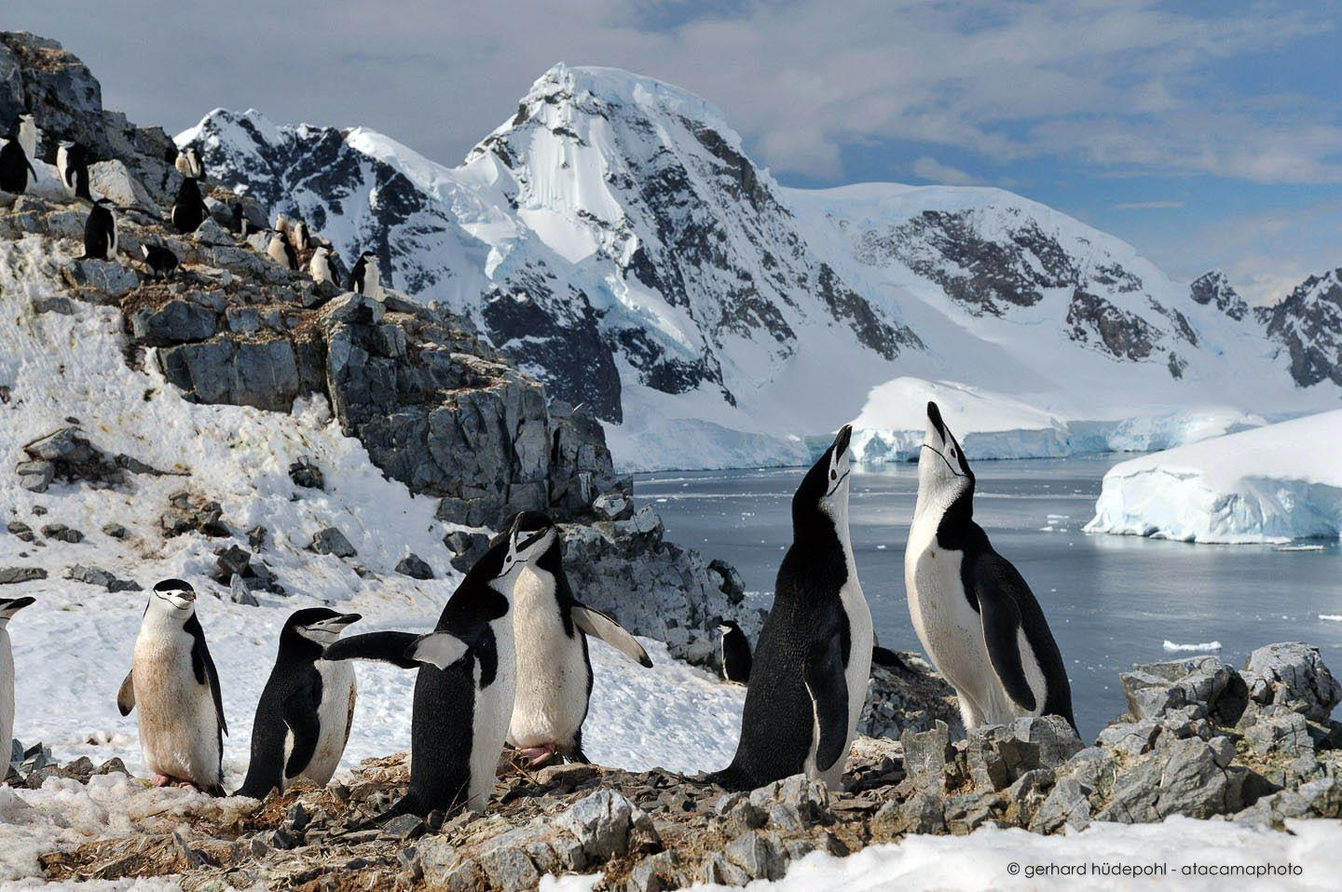Penguin: (322, 513, 555, 815), (707, 425, 875, 791), (904, 400, 1073, 726), (509, 537, 652, 764), (118, 579, 228, 796), (236, 608, 362, 797), (0, 596, 35, 786)
